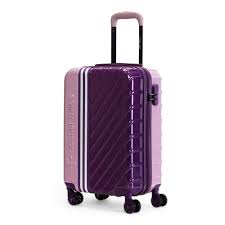suitcase: (58, 11, 167, 213)
